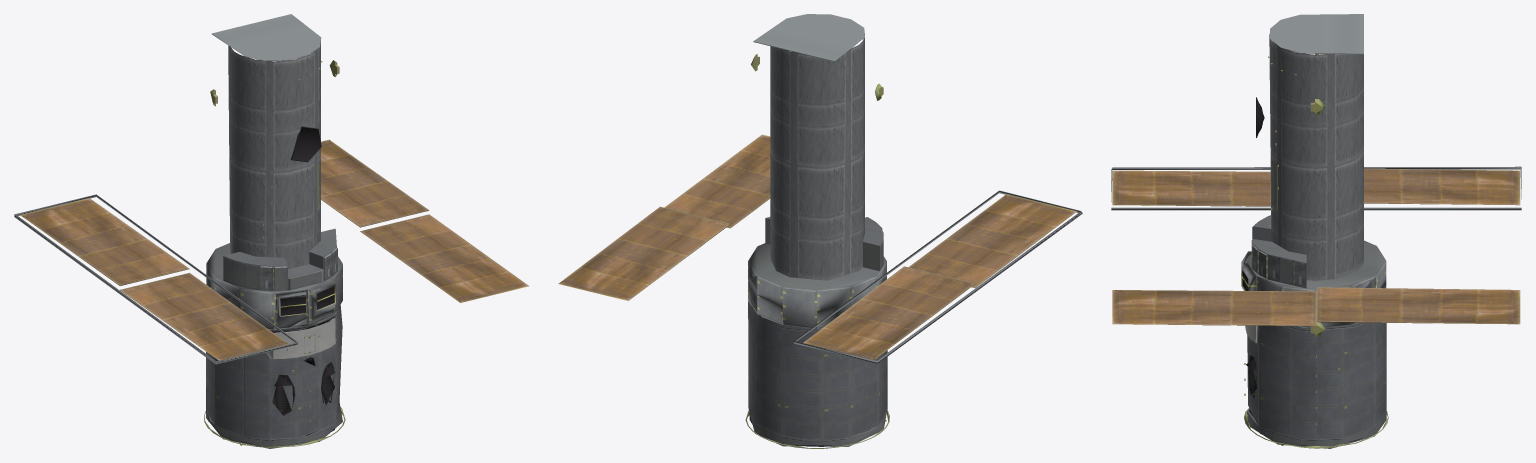
Rendered from hubble-lite.glb.
The picture shows the model from 3 angles, left to right: view 1: azimuth 30°, elevation 25°; view 2: azimuth 150°, elevation 25°; view 3: azimuth 270°, elevation 25°; orthographic projection.
Visible parts, largest first — view 1: hst; view 2: hst; view 3: hst.
Part boxes in pixels (x1=…): hst: x1=14, y1=14, x2=529, y2=448; hst: x1=558, y1=14, x2=1082, y2=448; hst: x1=1111, y1=14, x2=1521, y2=448.
Size of the model in its own units: 450 by 525 by 500.
Materials: 5 (5 with a texture image).
